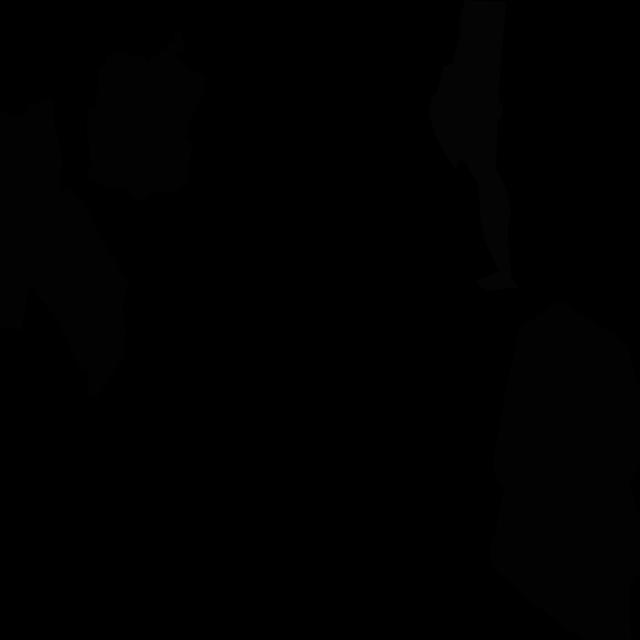cardboard: (490, 300, 640, 640), (23, 184, 129, 399), (87, 31, 205, 201), (0, 97, 63, 330)
soft_plastic: (428, 0, 518, 290)
